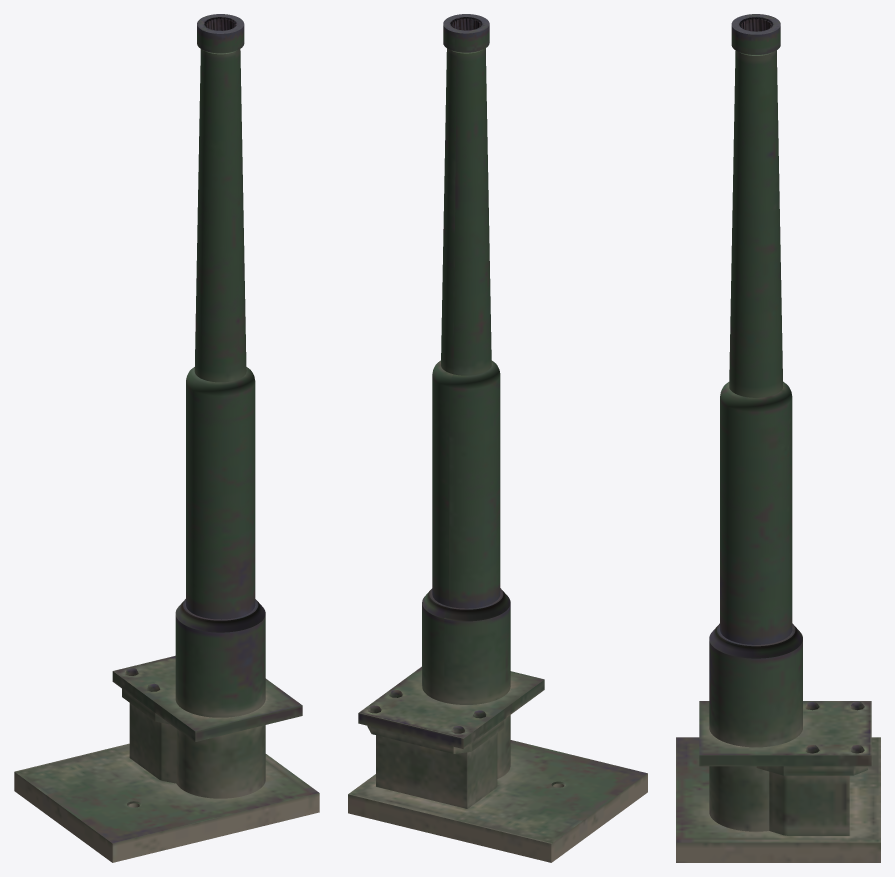
Rendered from Gun_04.glb.
The picture shows the model from 3 angles, left to right: view 1: azimuth 30°, elevation 25°; view 2: azimuth 150°, elevation 25°; view 3: azimuth 270°, elevation 25°; orthographic projection. The views are drawn at different scales.
Visible parts, largest first — view 1: set_0_group_0; view 2: set_0_group_0; view 3: set_0_group_0.
Part boxes in pixels (x1=…): set_0_group_0: x1=14, y1=14, x2=319, y2=862; set_0_group_0: x1=348, y1=14, x2=647, y2=862; set_0_group_0: x1=676, y1=14, x2=880, y2=862.
Bounding box in the file's own units: 0.3733 × 1.33 × 0.3066.
1 material, 1 textured.
